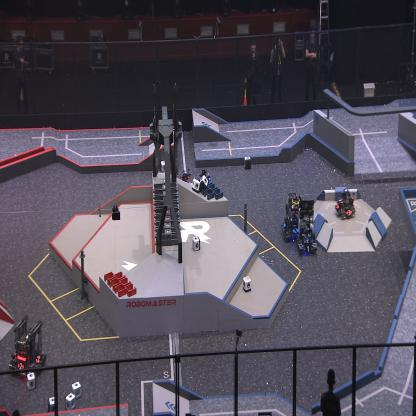car: (9, 314, 46, 378), (295, 199, 317, 253), (282, 189, 302, 242), (335, 188, 356, 220), (197, 168, 213, 195), (180, 170, 194, 193)
